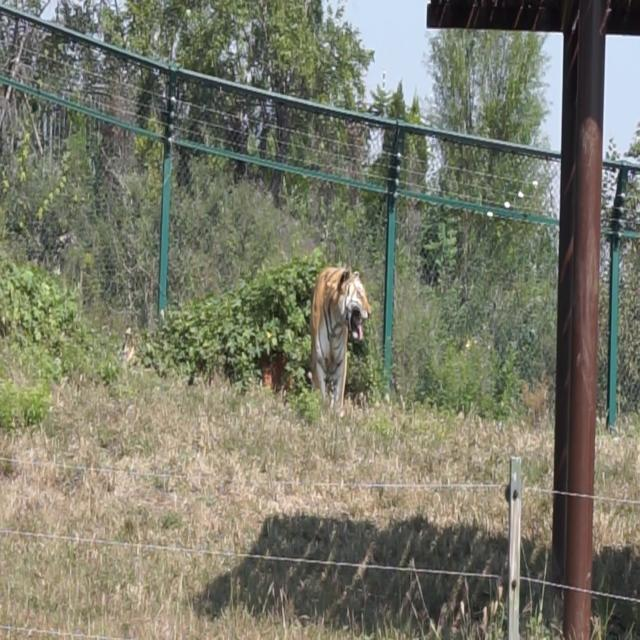Tiger: (307, 246, 373, 409)
